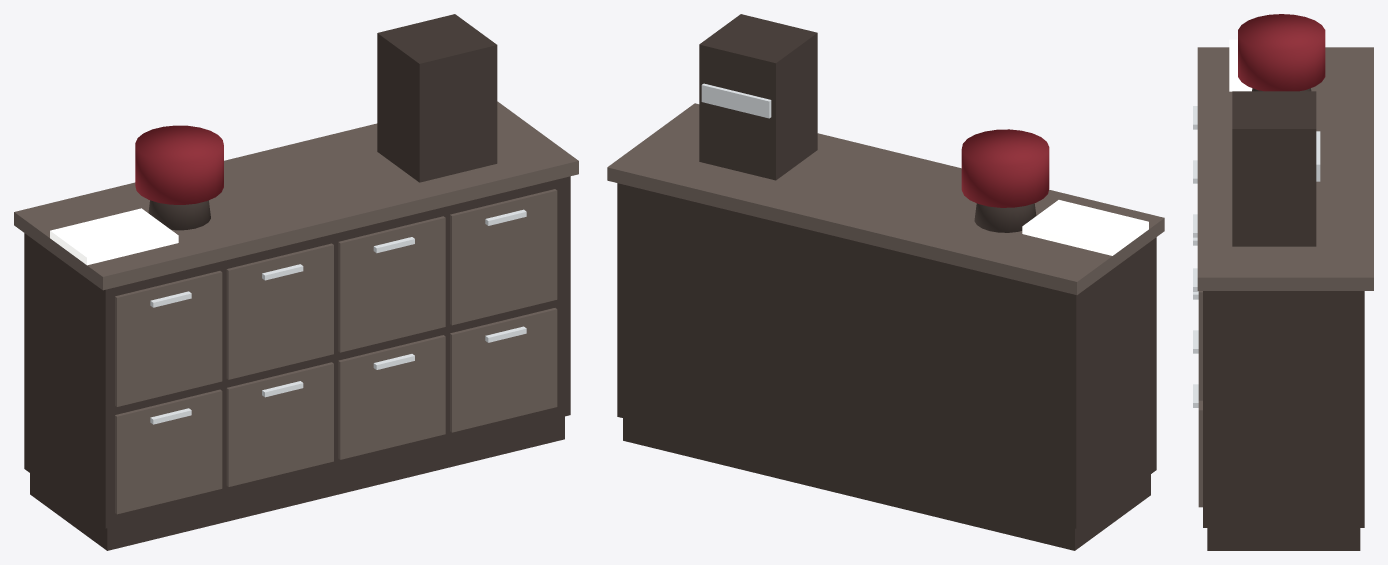
The picture shows the model from 3 angles, left to right: view 1: azimuth 30°, elevation 25°; view 2: azimuth 150°, elevation 25°; view 3: azimuth 270°, elevation 25°; orthographic projection.
Visible parts, largest first — view 1: root; view 2: root; view 3: root.
Part boxes in pixels (x1,y1,x2,y2): root: (14, 14, 578, 550); root: (607, 14, 1164, 550); root: (1193, 14, 1373, 550).
Bounding box in the file's own units: 1.58 × 1.27 × 0.5258.
